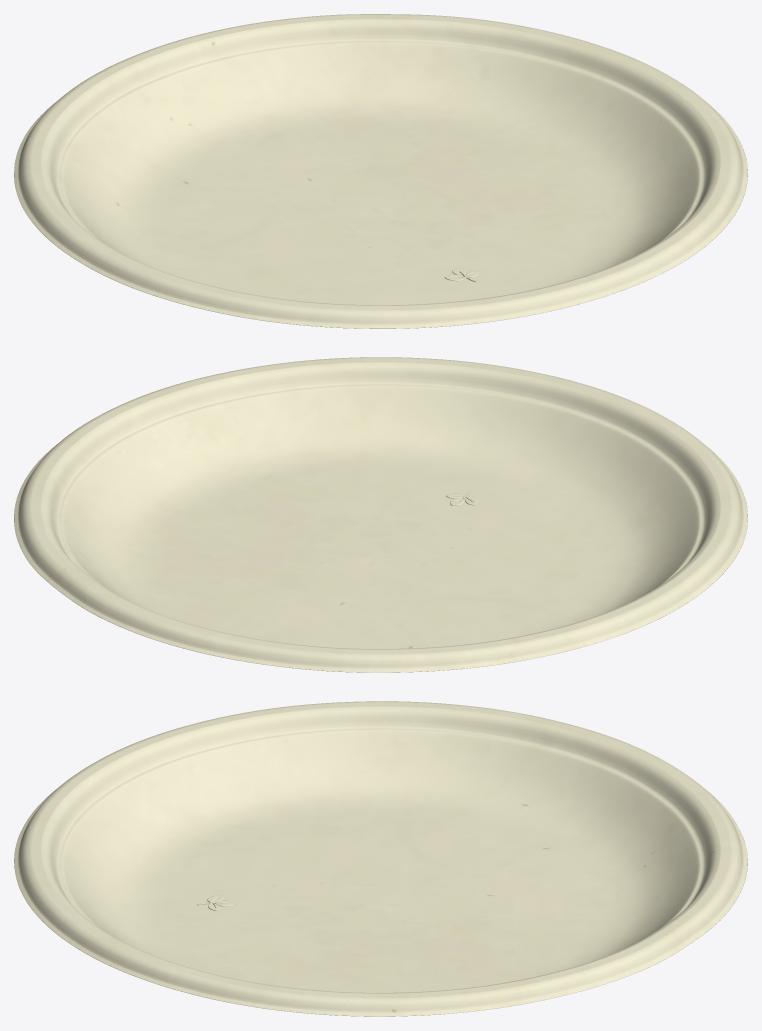
File: 1-plate-clean-transformed.glb
The picture shows the model from 3 angles, top to bottom: view 1: azimuth 30°, elevation 25°; view 2: azimuth 150°, elevation 25°; view 3: azimuth 270°, elevation 25°; orthographic projection.
Parts seen in each view (by area): view 1: plate_01; view 2: plate_01; view 3: plate_01.
Boxes of the visible parts, bbox=[...] form: plate_01: bbox=[14, 14, 747, 328]; plate_01: bbox=[14, 357, 747, 672]; plate_01: bbox=[14, 701, 747, 1016].
Size of the model in its own units: 0.2224 by 0.018 by 0.2223.
1 material, 1 textured.
